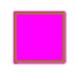pink_zone: (12, 10, 67, 65)
